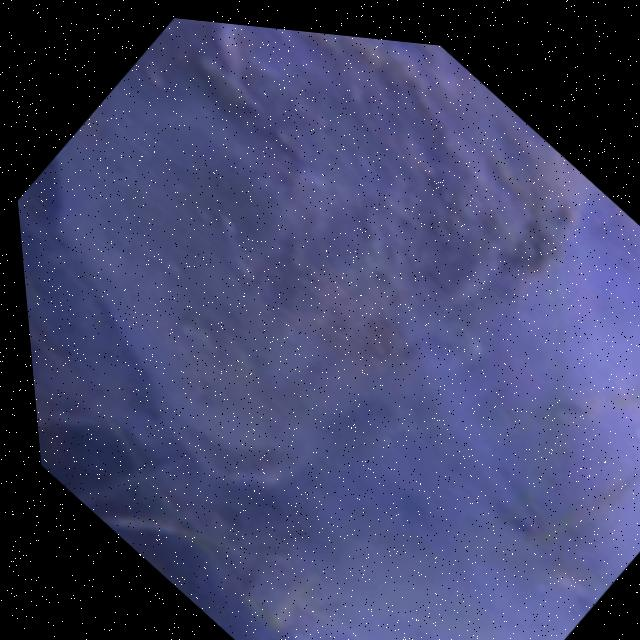Oyster-Closed: (47, 19, 582, 495)
